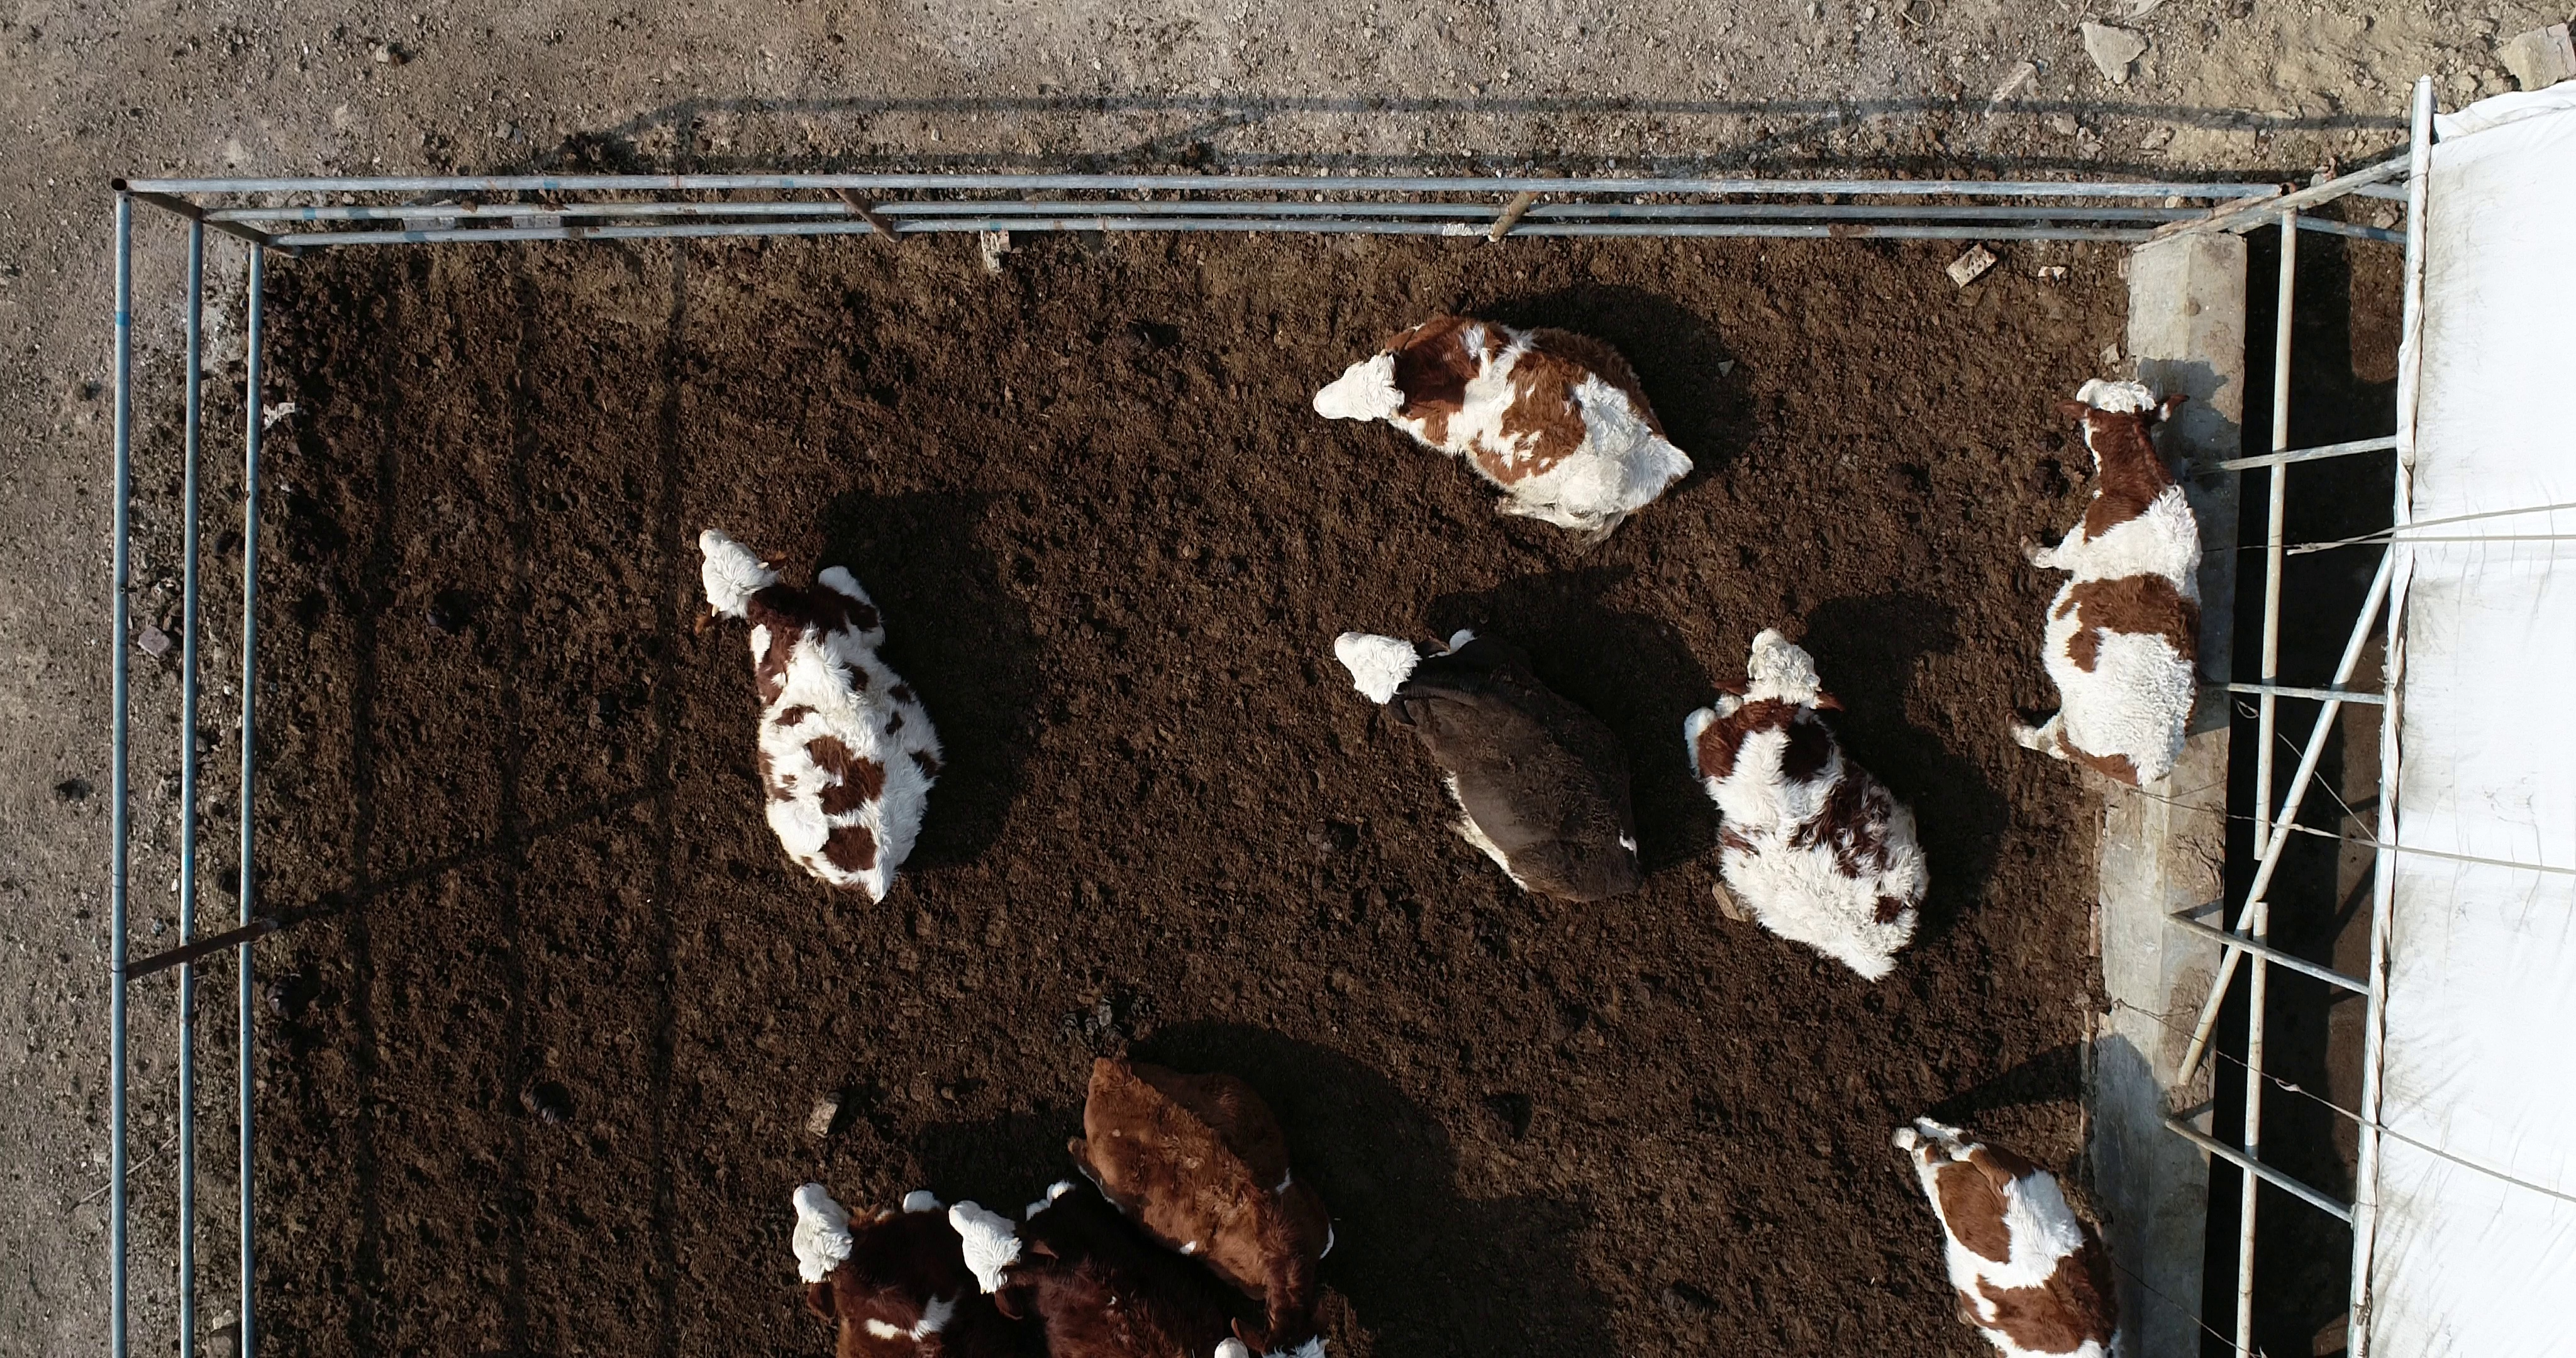cattle: (2002, 368, 2213, 796)
